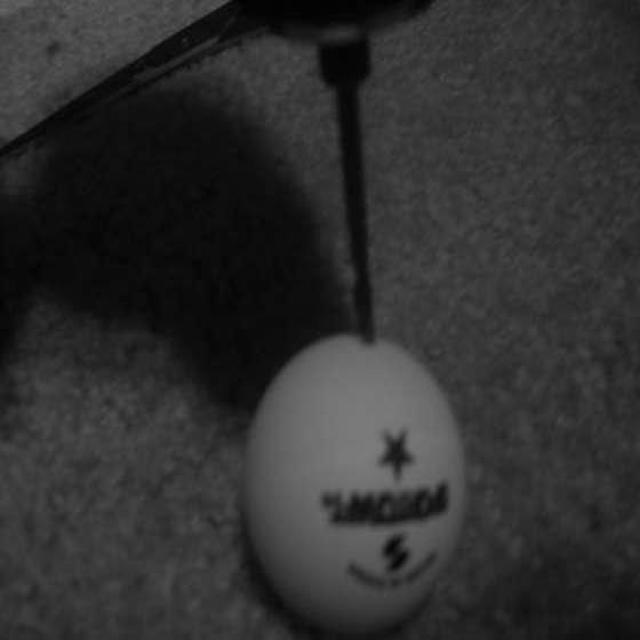ping-pong-ball: (237, 326, 471, 640)
